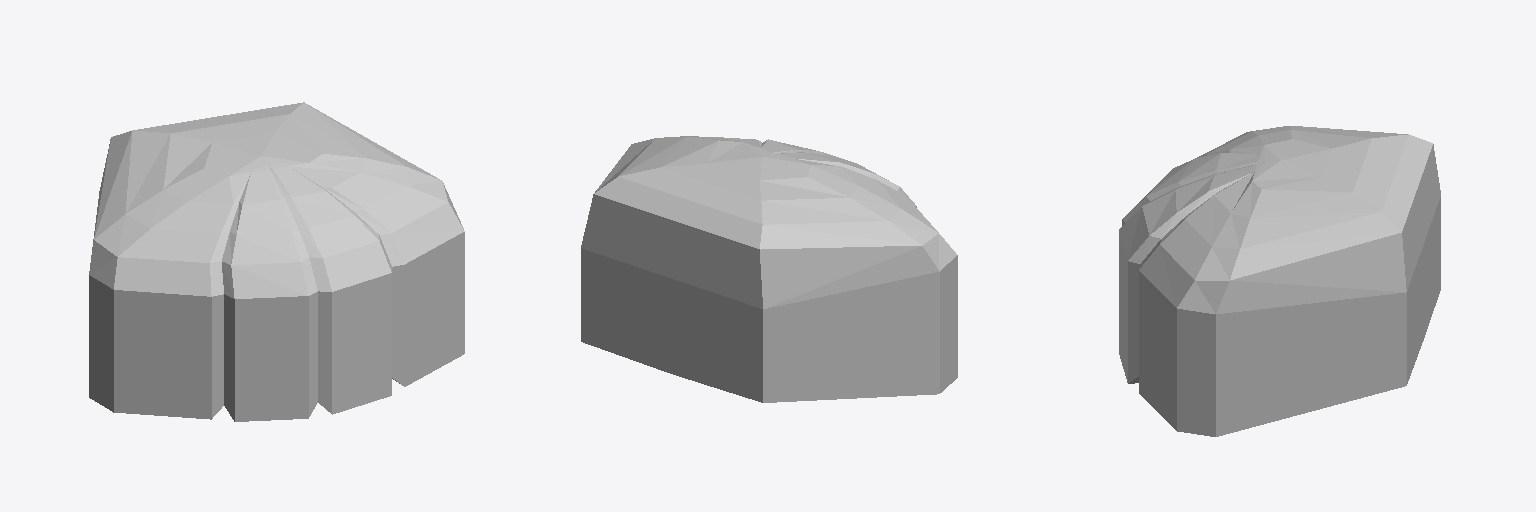
The model's file is NewArm.obj.
3 renders of one model, left to right at view 1: azimuth 30°, elevation 25°; view 2: azimuth 150°, elevation 25°; view 3: azimuth 270°, elevation 25°, orthographic.
Visible parts, largest first — view 1: Arm; view 2: Arm; view 3: Arm.
Part boxes in pixels (bbox=[...]): Arm: bbox=[89, 102, 464, 421]; Arm: bbox=[581, 136, 957, 402]; Arm: bbox=[1119, 126, 1440, 436].
Bounding box in the file's own units: 1.97 × 1.1 × 1.63.